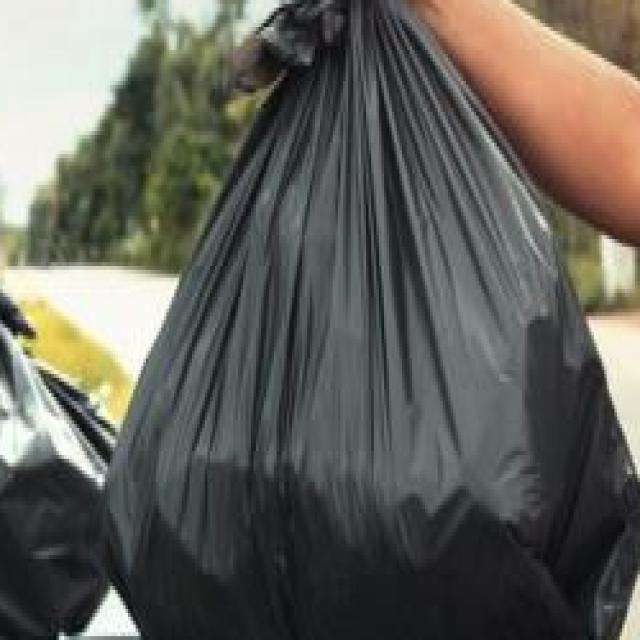Trashbag: (115, 51, 635, 637), (0, 330, 126, 640)
